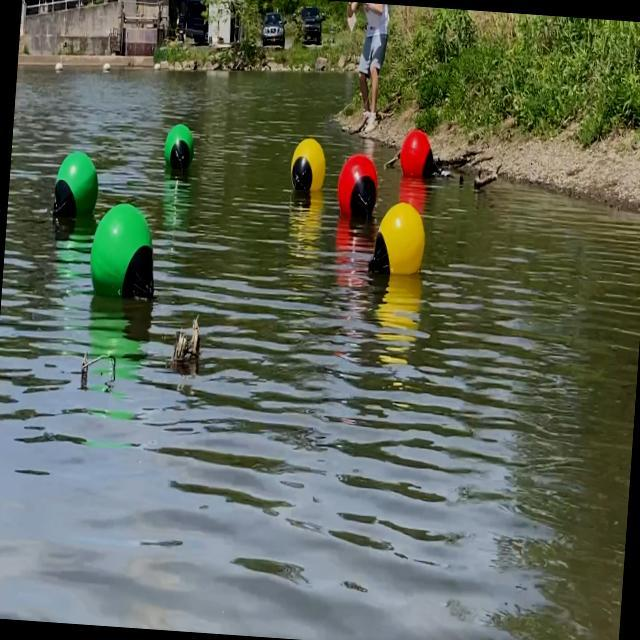buoy: (88, 200, 159, 300), (368, 203, 428, 277), (53, 148, 101, 220), (334, 153, 380, 215), (288, 136, 328, 192), (398, 128, 440, 176), (162, 123, 195, 173)
